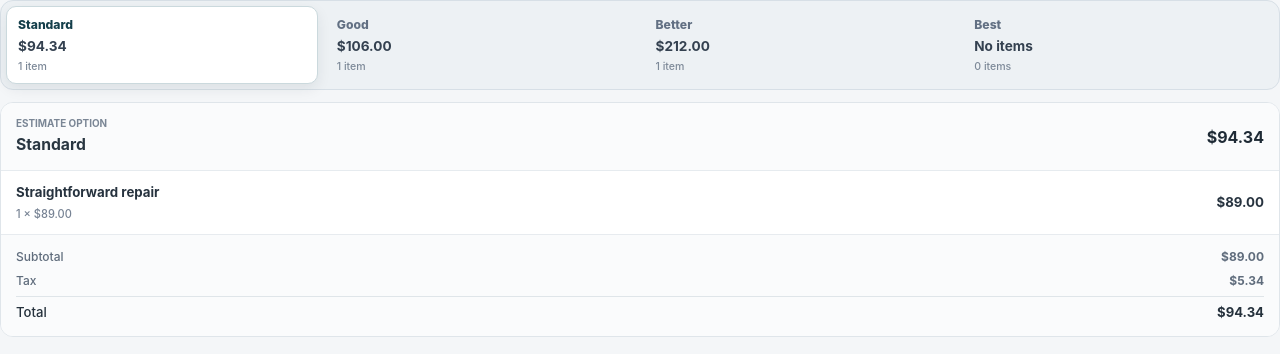
estimate option workspace › switches between Standard and optional Good, Better, and Best scopes
Expected: the text "Straightforward repair" is shown, [16,184,160,200]
Expected: the text "Better repair" is not shown
Step 1. Click the tab "Better $212.00 1 item" → (674, 24), box [644,6,955,84]
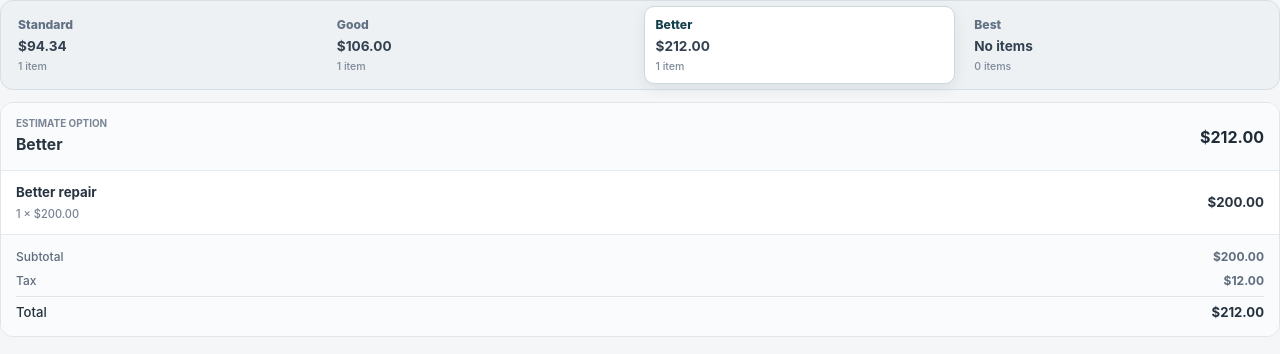
Result: the text "Better repair" is shown at [16,184,97,200]
Result: the text "Straightforward repair" is gone
